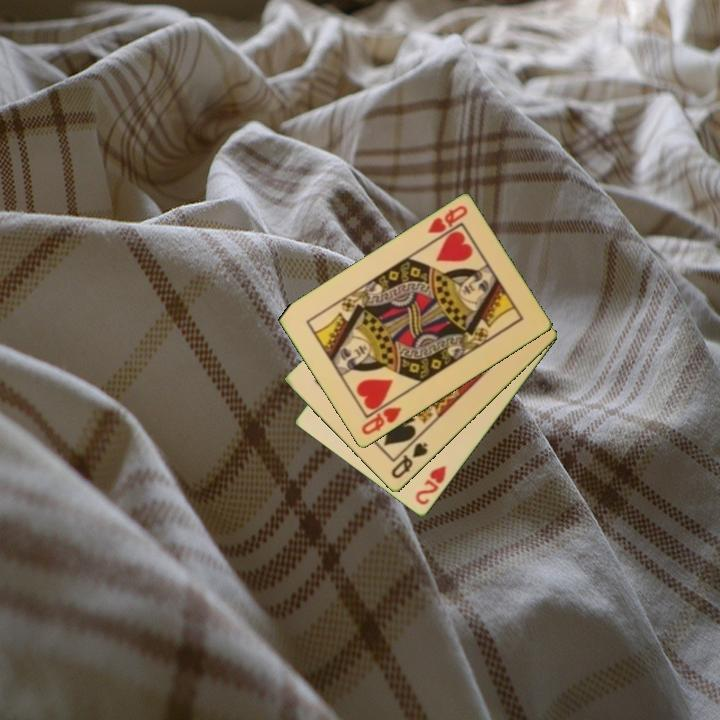2h: (412, 462, 449, 508)
Qh: (358, 404, 405, 439), (424, 202, 471, 237)
Qs: (388, 439, 431, 482)
